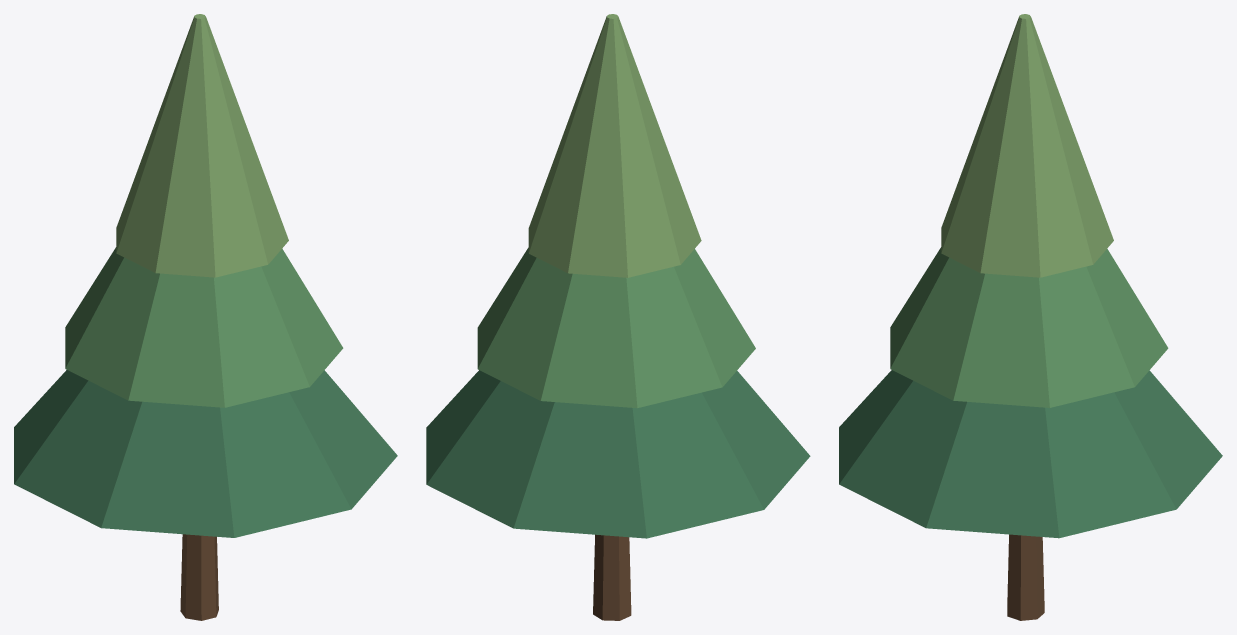
The model's file is far_tree_1.fbx.
3 renders of one model, left to right at view 1: azimuth 30°, elevation 25°; view 2: azimuth 150°, elevation 25°; view 3: azimuth 270°, elevation 25°, orthographic.
Parts seen in each view (by area): view 1: far_tree_1; view 2: far_tree_1; view 3: far_tree_1.
Boxes of the visible parts, x1,y1,x2,y2 form: far_tree_1: (14, 14, 397, 620); far_tree_1: (426, 14, 810, 620); far_tree_1: (839, 14, 1222, 620).
Size of the model in its own units: 394 by 665 by 388.
